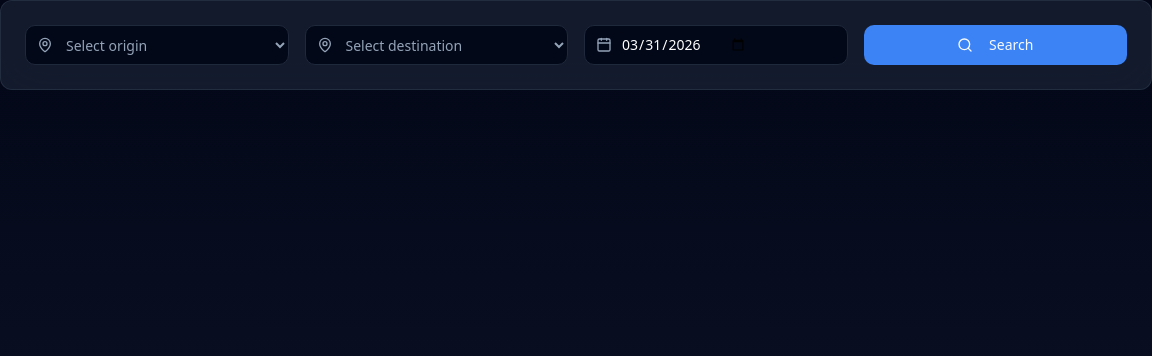
Test: SearchForm › shows validation error when origin equals destination
The image size is (1152, 356).
Select "București" in the 1st dropdown named "Origin" at coordinates (157, 45), box [25,25,288,65]
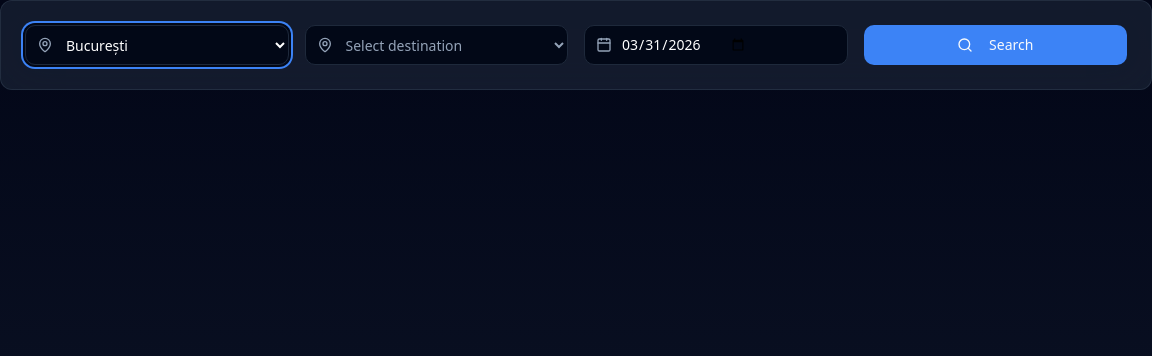
Select "București" in the 2nd dropdown named "Destination" at coordinates (436, 45), box [304,25,568,65]
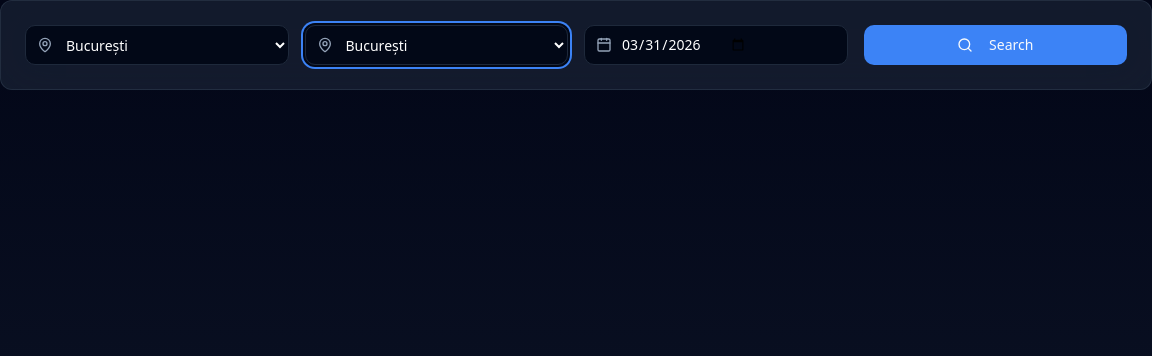
Click the button "Search" at coordinates (995, 45), box [864,25,1127,65]
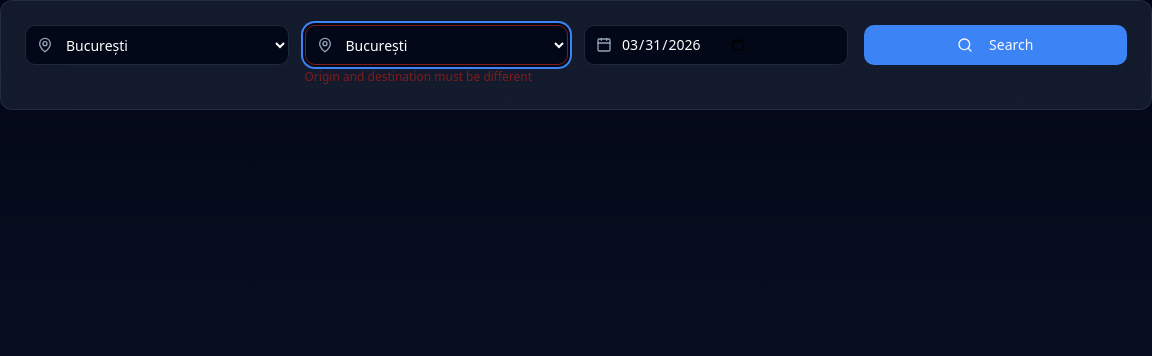
Now the text "Origin and destination must be different" is shown, box [304,69,568,85]
